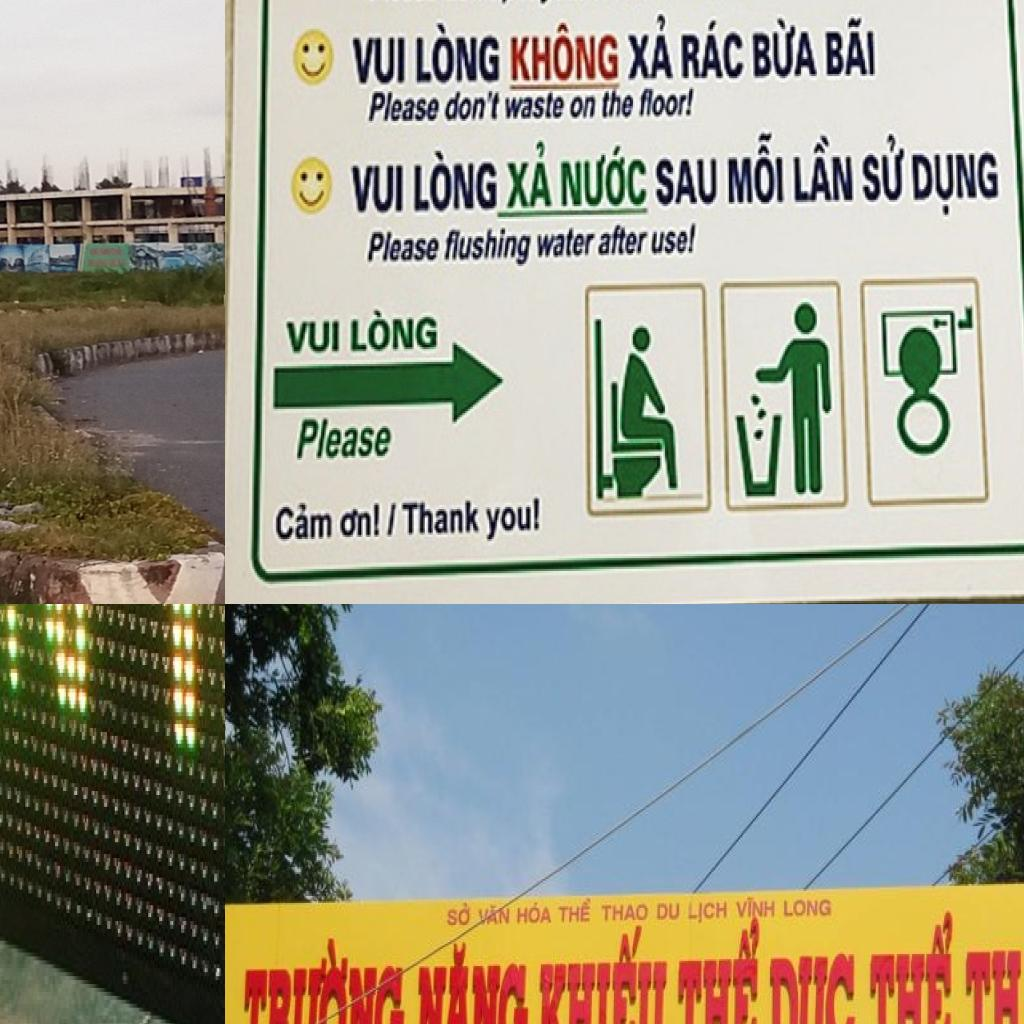text: (0, 604, 99, 814), (240, 933, 410, 1024), (533, 925, 672, 1024), (866, 899, 957, 1024), (411, 937, 530, 1024), (674, 914, 765, 1024), (508, 18, 622, 84), (766, 949, 858, 1024), (910, 149, 1002, 221), (558, 142, 650, 211), (412, 146, 500, 217), (414, 20, 503, 89), (724, 125, 788, 208), (750, 12, 822, 83), (294, 416, 398, 464), (790, 132, 857, 206), (963, 944, 1024, 1024), (348, 306, 441, 356), (680, 16, 748, 82), (623, 8, 678, 84), (441, 226, 535, 270), (859, 125, 908, 206), (504, 136, 556, 212), (823, 12, 878, 80), (652, 157, 721, 211), (400, 496, 482, 541), (348, 159, 408, 219), (348, 33, 409, 89), (364, 228, 444, 268), (273, 498, 335, 546), (366, 89, 444, 127), (282, 317, 344, 358), (536, 223, 600, 262), (638, 85, 700, 123), (503, 89, 569, 123), (443, 89, 505, 125), (595, 221, 652, 260), (337, 498, 385, 544), (648, 219, 700, 260), (779, 891, 837, 922), (734, 892, 776, 922), (599, 89, 638, 121), (555, 894, 593, 925), (516, 898, 556, 926), (600, 902, 651, 922), (687, 901, 729, 925), (568, 93, 600, 123), (477, 901, 511, 929), (445, 901, 473, 930), (384, 499, 402, 541), (656, 901, 682, 922), (538, 0, 594, 9), (500, 0, 540, 10)
